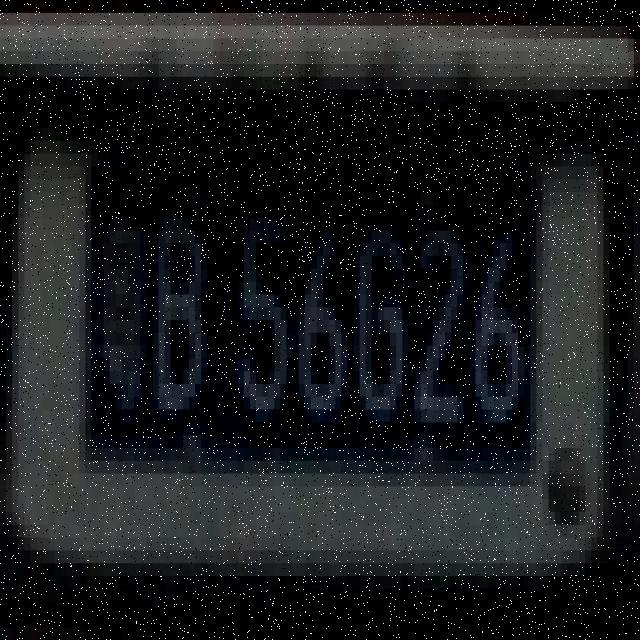licenseplate: (91, 162, 536, 478)
